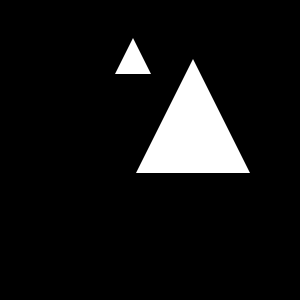triangle: (136, 59, 250, 173), (115, 38, 151, 74)
